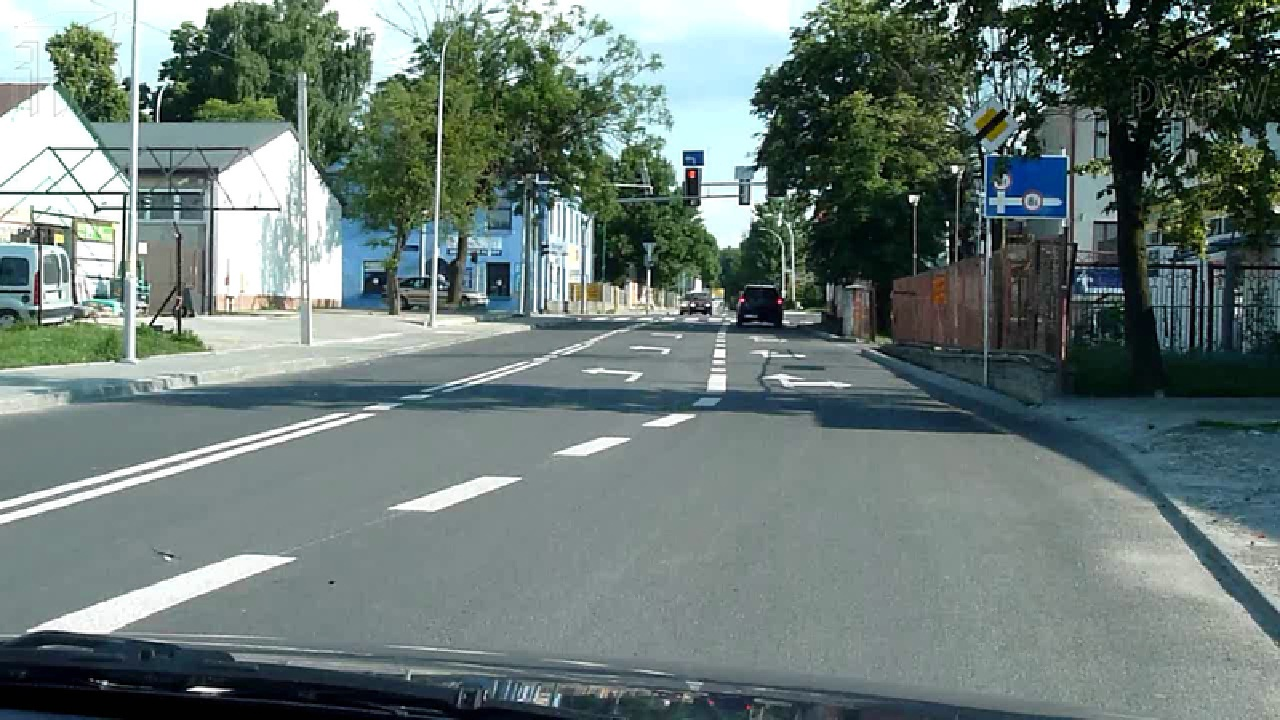D2: (964, 99, 1018, 152)
Red: (687, 169, 697, 204)
